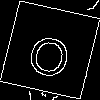O: (25, 25, 75, 80)
